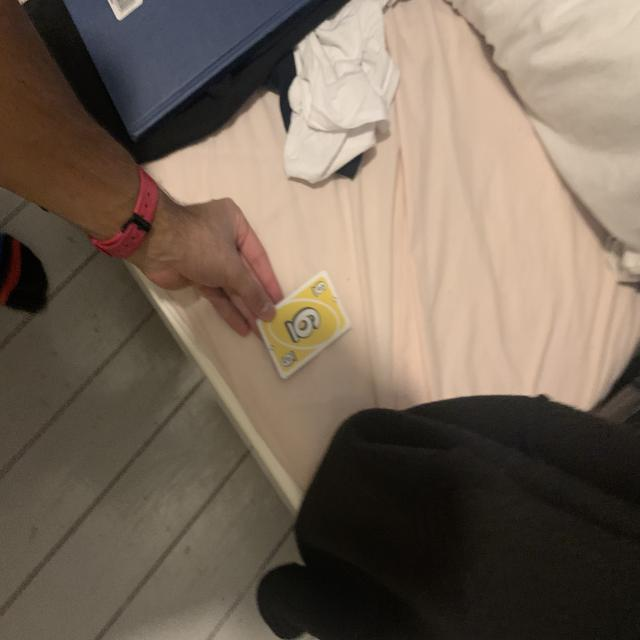lyellow-6: (311, 280, 329, 298)
